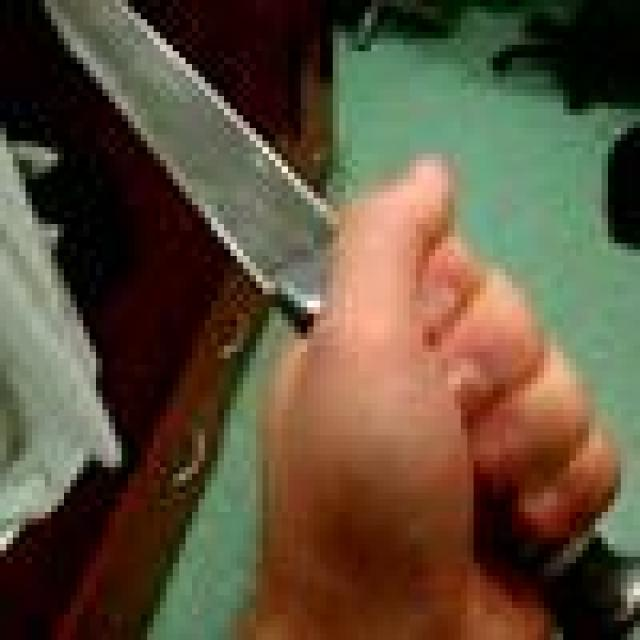knife: (38, 0, 320, 320)
